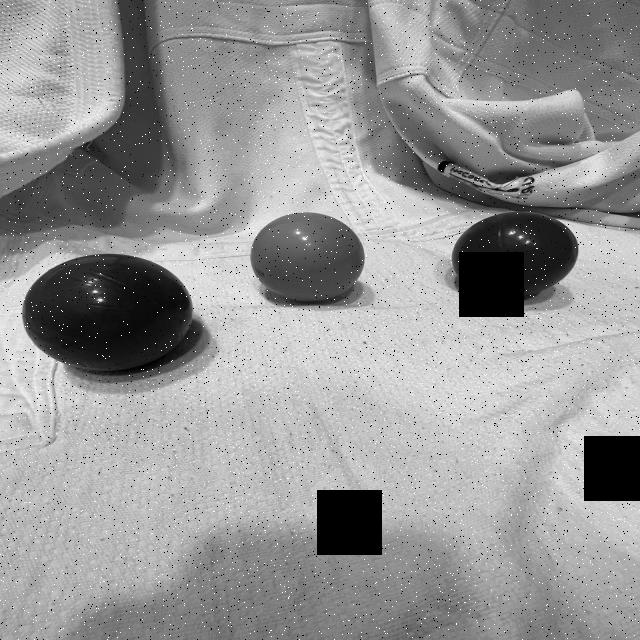ball: (19, 249, 197, 377), (445, 208, 583, 300), (248, 209, 368, 303)
